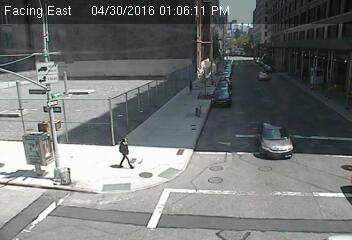neg: (184, 78, 197, 95), (309, 73, 321, 88)
pos: (111, 135, 135, 168)
